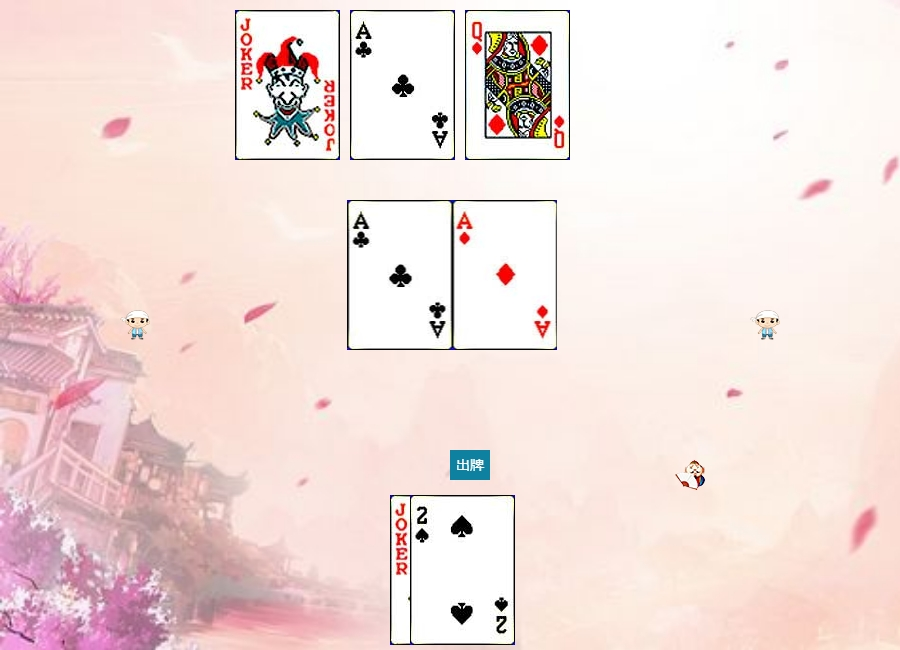12~1: (465, 10, 570, 160)
14~1: (453, 200, 558, 350)
14~2: (350, 10, 455, 160), (348, 200, 453, 350)
15~4: (410, 495, 515, 645)
18~4: (235, 10, 340, 160), (390, 495, 495, 645)
